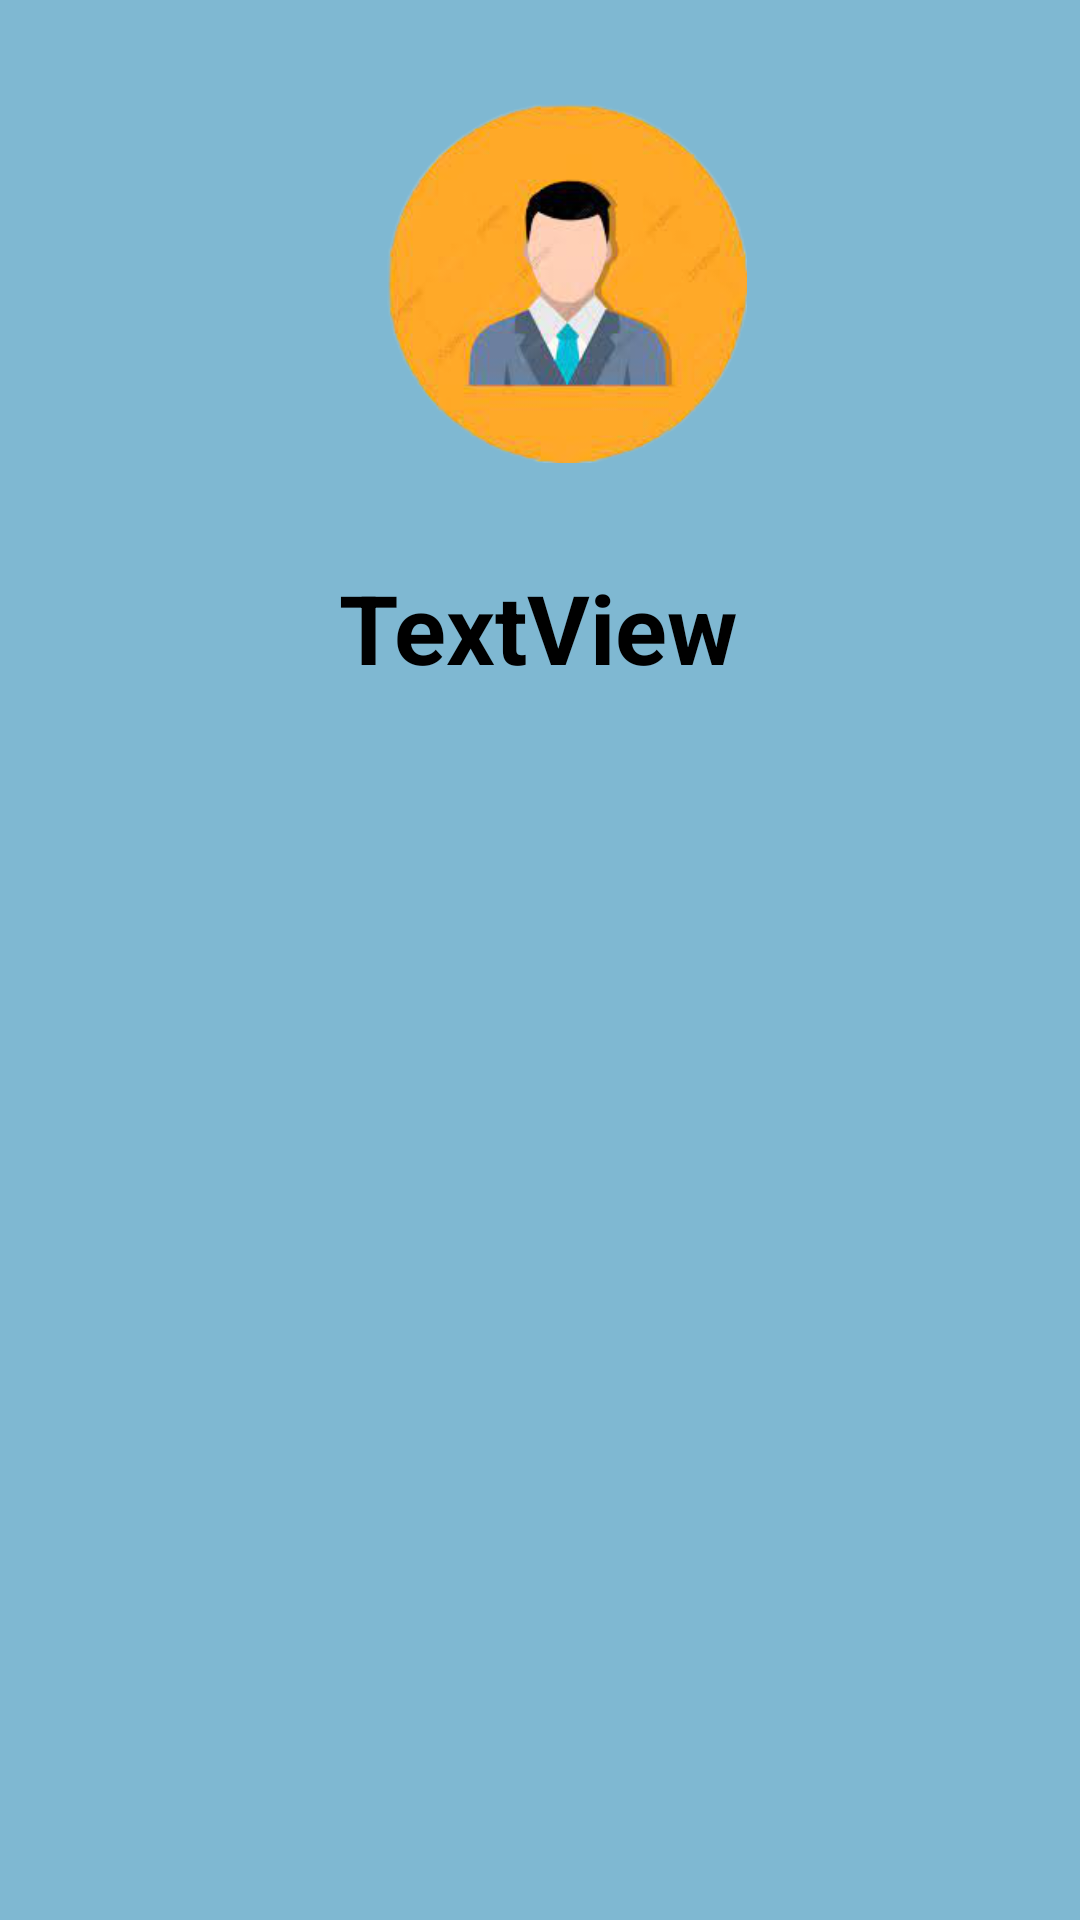

Screen size 1080w x 1920h. Icon name, then its center in pixels as point (x, y):
userimage: point (567, 284)
